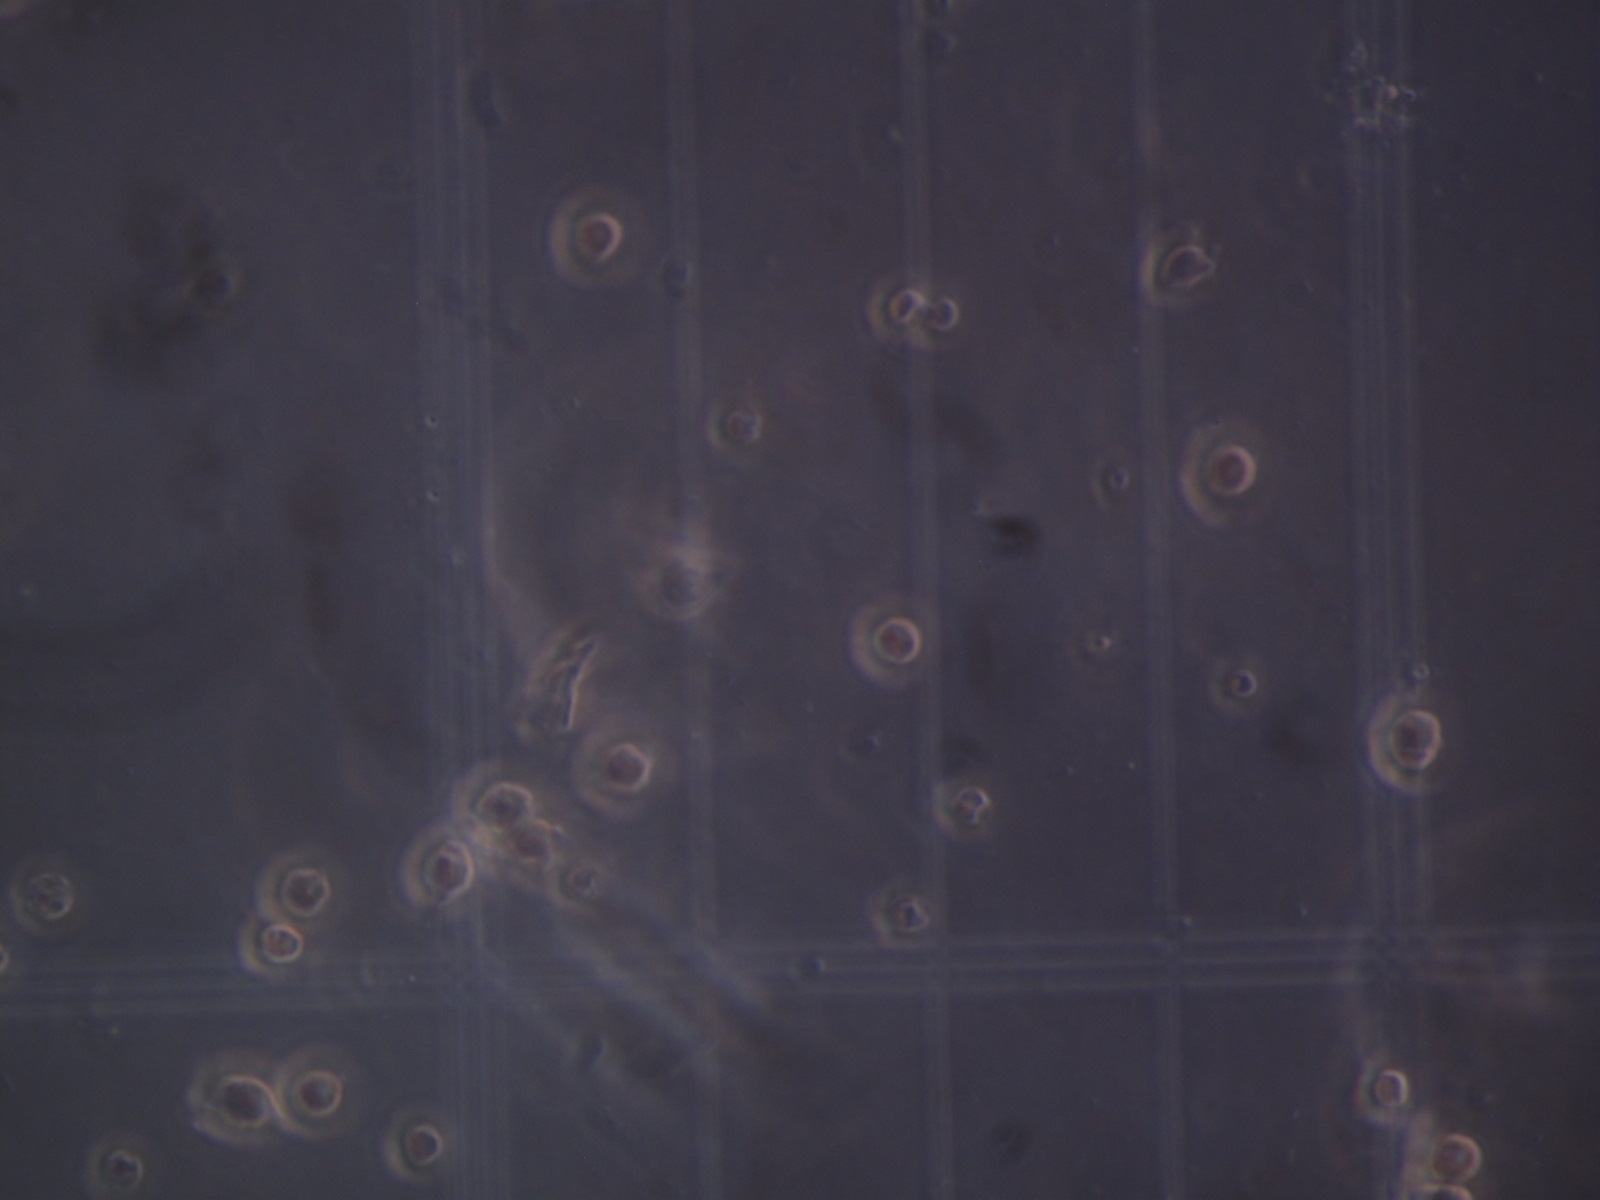hemo: (191, 1047, 286, 1146), (1180, 417, 1261, 531), (551, 187, 632, 292), (275, 1046, 367, 1139), (1364, 689, 1443, 798), (569, 718, 653, 818), (254, 842, 341, 920), (1405, 1108, 1485, 1190), (849, 599, 923, 687), (9, 853, 89, 934), (399, 818, 475, 904), (1136, 229, 1214, 311), (455, 763, 535, 831), (236, 914, 307, 984), (868, 879, 939, 949), (1354, 1050, 1414, 1129), (386, 1100, 445, 1180), (87, 1129, 152, 1200), (930, 778, 994, 843), (866, 274, 926, 337), (708, 395, 767, 456), (913, 280, 961, 352), (508, 817, 559, 870)
